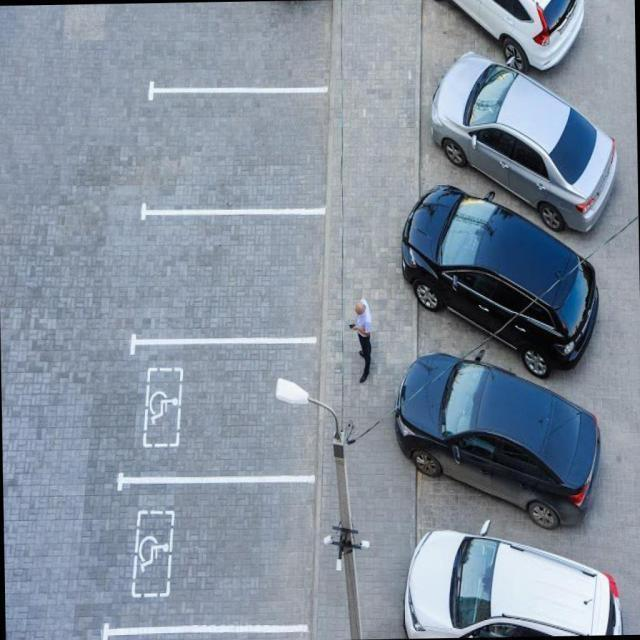empty: (103, 480, 323, 640), (116, 340, 323, 492), (136, 216, 329, 344), (145, 90, 329, 213)
occupied: (159, 0, 325, 89)
